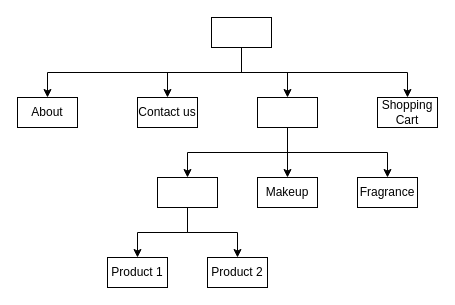
The diagram is 455 pixels wide and 305 high, and some of its shapes have lost their labels. The shapes that lost their labels are listed below. From the top down, each one's centre as x and y in pixels, then its label:
(x=241, y=32): Home
(x=287, y=112): Products
(x=187, y=192): Skin care
